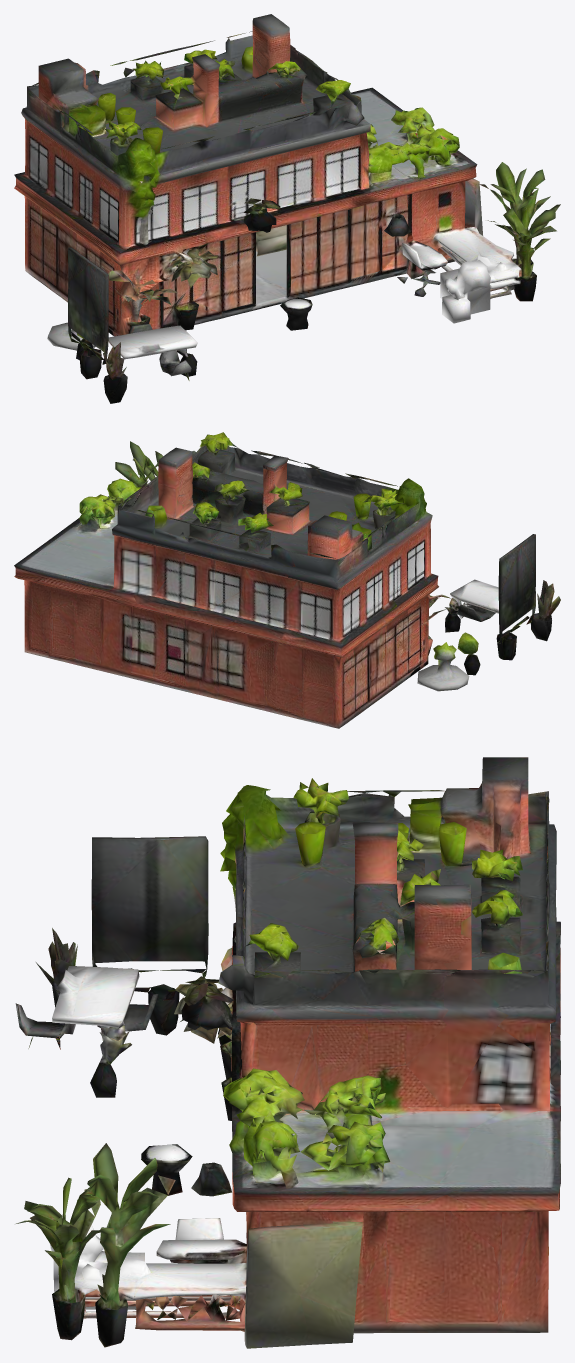
Rendered from blacksmith.glb.
3 views of the same model, one above another, from view 1: azimuth 30°, elevation 25°; view 2: azimuth 150°, elevation 25°; view 3: azimuth 270°, elevation 25° (orthographic). The views are drawn at different scales.
Size of the model in its own units: 1.88 by 0.8737 by 1.24.
1 material, 1 textured.
